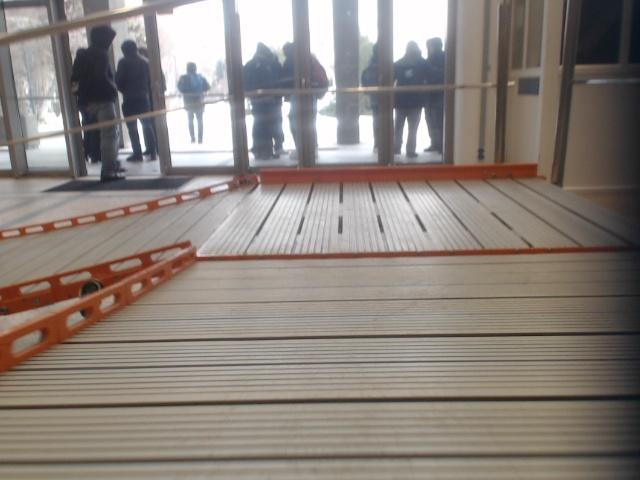ramps-railing: (0, 0, 203, 45), (551, 0, 582, 185), (223, 0, 248, 173)
